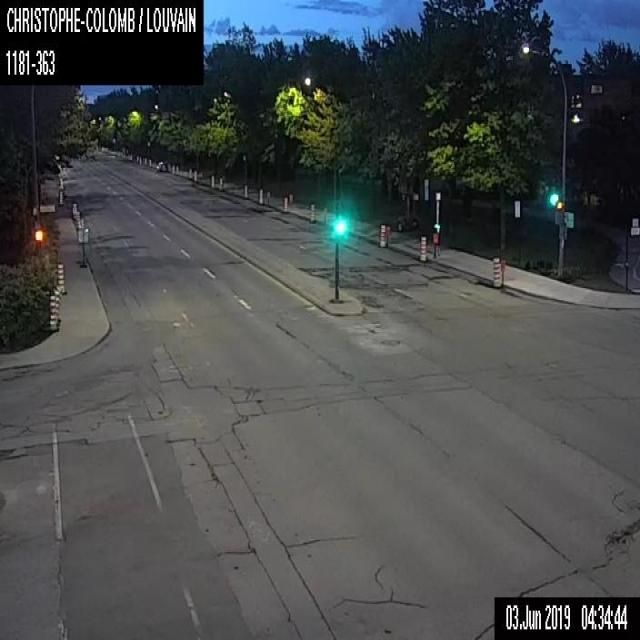construction: (393, 183, 420, 231), (78, 222, 89, 267), (56, 259, 67, 294), (47, 295, 56, 331), (53, 288, 59, 326), (492, 256, 499, 288), (377, 222, 385, 246), (419, 235, 426, 261), (432, 231, 438, 258), (74, 210, 80, 230), (217, 176, 223, 191), (210, 173, 215, 188), (310, 204, 314, 221), (58, 190, 62, 205), (258, 189, 262, 204), (266, 190, 269, 207), (188, 166, 192, 178), (193, 168, 197, 180), (244, 182, 247, 198), (283, 196, 286, 211), (144, 156, 147, 165), (171, 164, 174, 173), (148, 158, 151, 167)
vehicle: (155, 159, 167, 171)
